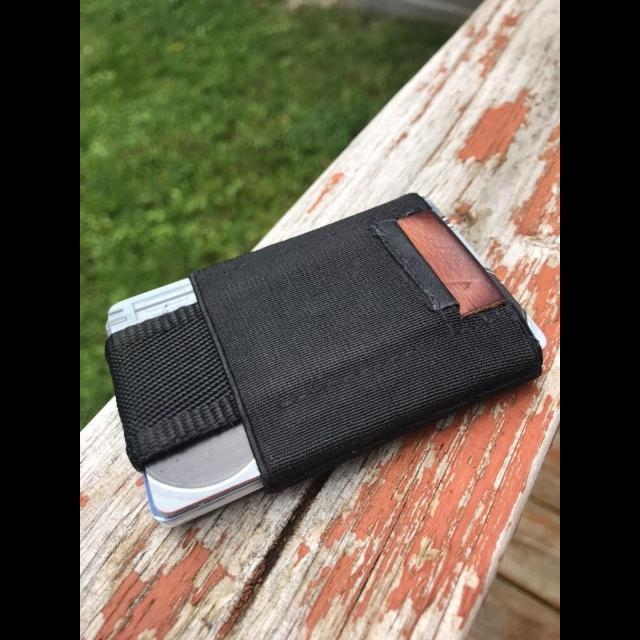wallet: (106, 192, 546, 526)
